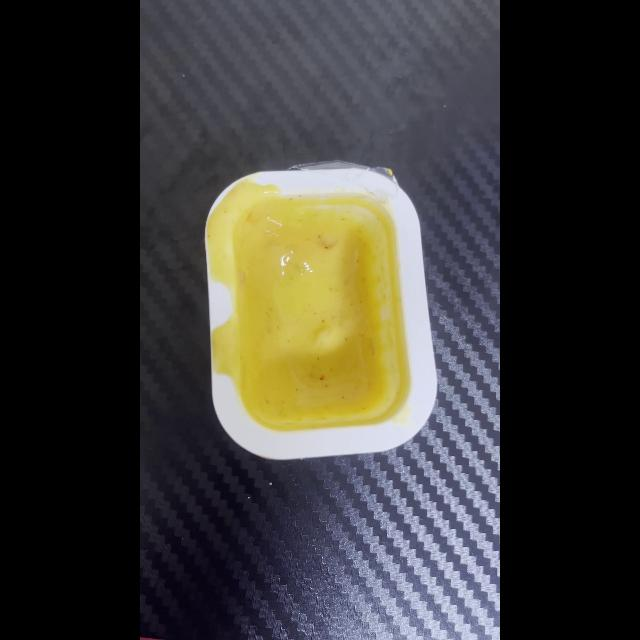dirty: (209, 160, 437, 456)
